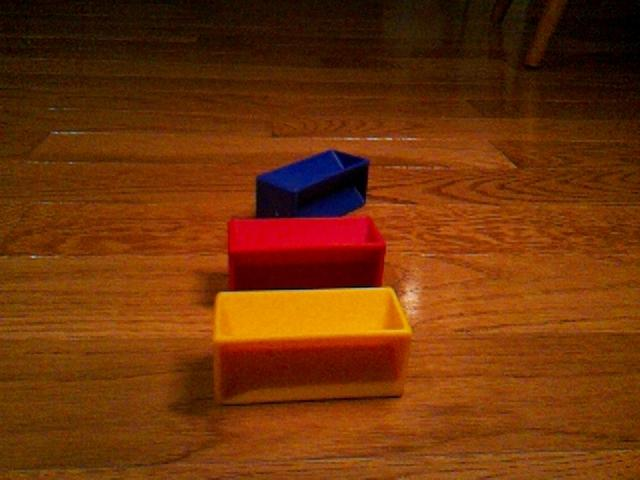blue: (254, 147, 371, 218)
red: (226, 214, 387, 290)
yellow: (211, 285, 413, 406)
